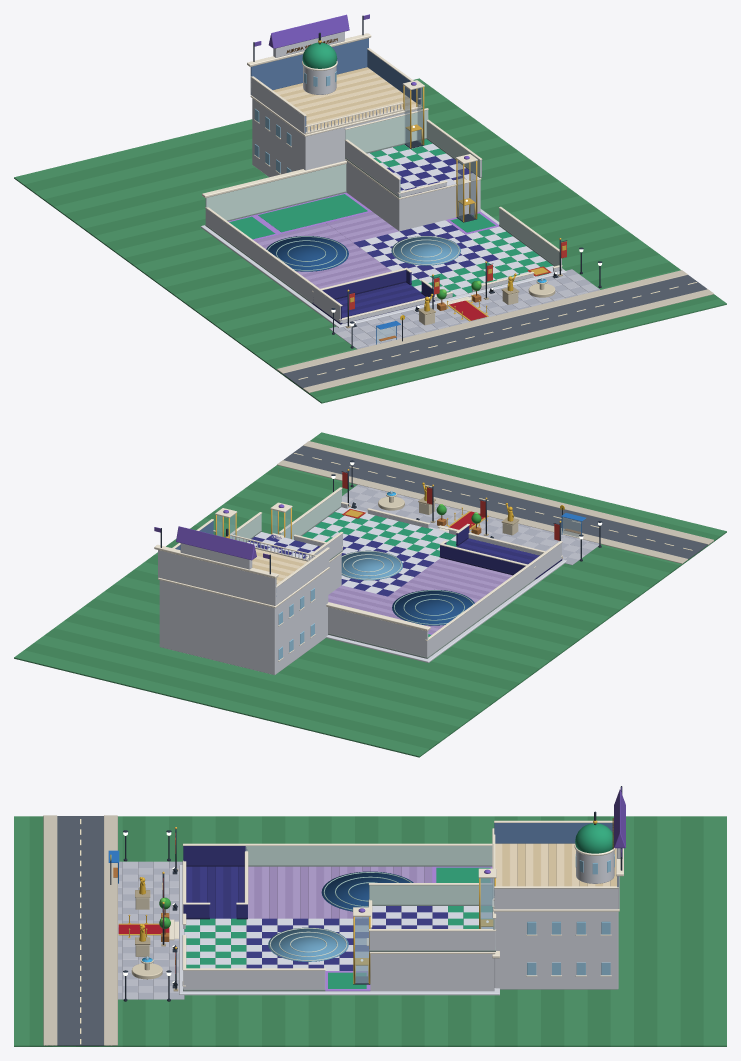
Rendered from shell.glb.
The picture shows the model from 3 angles, top to bottom: view 1: azimuth 30°, elevation 25°; view 2: azimuth 150°, elevation 25°; view 3: azimuth 270°, elevation 25°; orthographic projection. The views are drawn at different scales.
Parts seen in each view (by area): view 1: grounds, building, floor_aurora_deck, floor_floor_1, crown, lift_floor_1, grand_2, lift_aurora_deck, dome, grand_4, grand_3; view 2: grounds, building, floor_aurora_deck, crown, floor_floor_1, grand_2, lift_floor_1, grand_4, lift_aurora_deck; view 3: grounds, building, floor_aurora_deck, floor_floor_1, crown, lift_floor_1, dome, lift_aurora_deck, grand_4, grand_3, grand_2.
Boxes of the visible parts, x1=… form: grounds: x1=14, y1=78, x2=726, y2=403; building: x1=200, y1=164, x2=566, y2=327; floor_aurora_deck: x1=250, y1=38, x2=422, y2=177; floor_floor_1: x1=344, y1=108, x2=482, y2=231; crown: x1=202, y1=14, x2=371, y2=197; lift_floor_1: x1=453, y1=154, x2=477, y2=222; grand_2: x1=345, y1=238, x2=567, y2=328; lift_aurora_deck: x1=402, y1=80, x2=424, y2=148; dome: x1=302, y1=42, x2=337, y2=68; grand_4: x1=418, y1=273, x2=519, y2=325; grand_3: x1=352, y1=272, x2=558, y2=327; grounds: x1=14, y1=432, x2=726, y2=757; building: x1=279, y1=487, x2=566, y2=662; floor_aurora_deck: x1=158, y1=519, x2=329, y2=674; crown: x1=154, y1=526, x2=430, y2=631; floor_floor_1: x1=228, y1=512, x2=343, y2=594; grand_2: x1=341, y1=469, x2=562, y2=558; lift_floor_1: x1=268, y1=502, x2=292, y2=539; grand_4: x1=418, y1=482, x2=519, y2=535; lift_aurora_deck: x1=215, y1=508, x2=237, y2=539; grounds: x1=14, y1=815, x2=726, y2=1046; building: x1=169, y1=843, x2=499, y2=995; floor_aurora_deck: x1=493, y1=820, x2=619, y2=989; floor_floor_1: x1=368, y1=883, x2=496, y2=991; crown: x1=492, y1=786, x2=625, y2=958; lift_floor_1: x1=353, y1=907, x2=370, y2=984; dome: x1=575, y1=823, x2=613, y2=853; lift_aurora_deck: x1=478, y1=868, x2=496, y2=928; grand_4: x1=135, y1=877, x2=150, y2=956; grand_3: x1=118, y1=867, x2=177, y2=988; grand_2: x1=159, y1=827, x2=178, y2=991.
Size of the model in its own units: 35 by 10.53 by 46.
